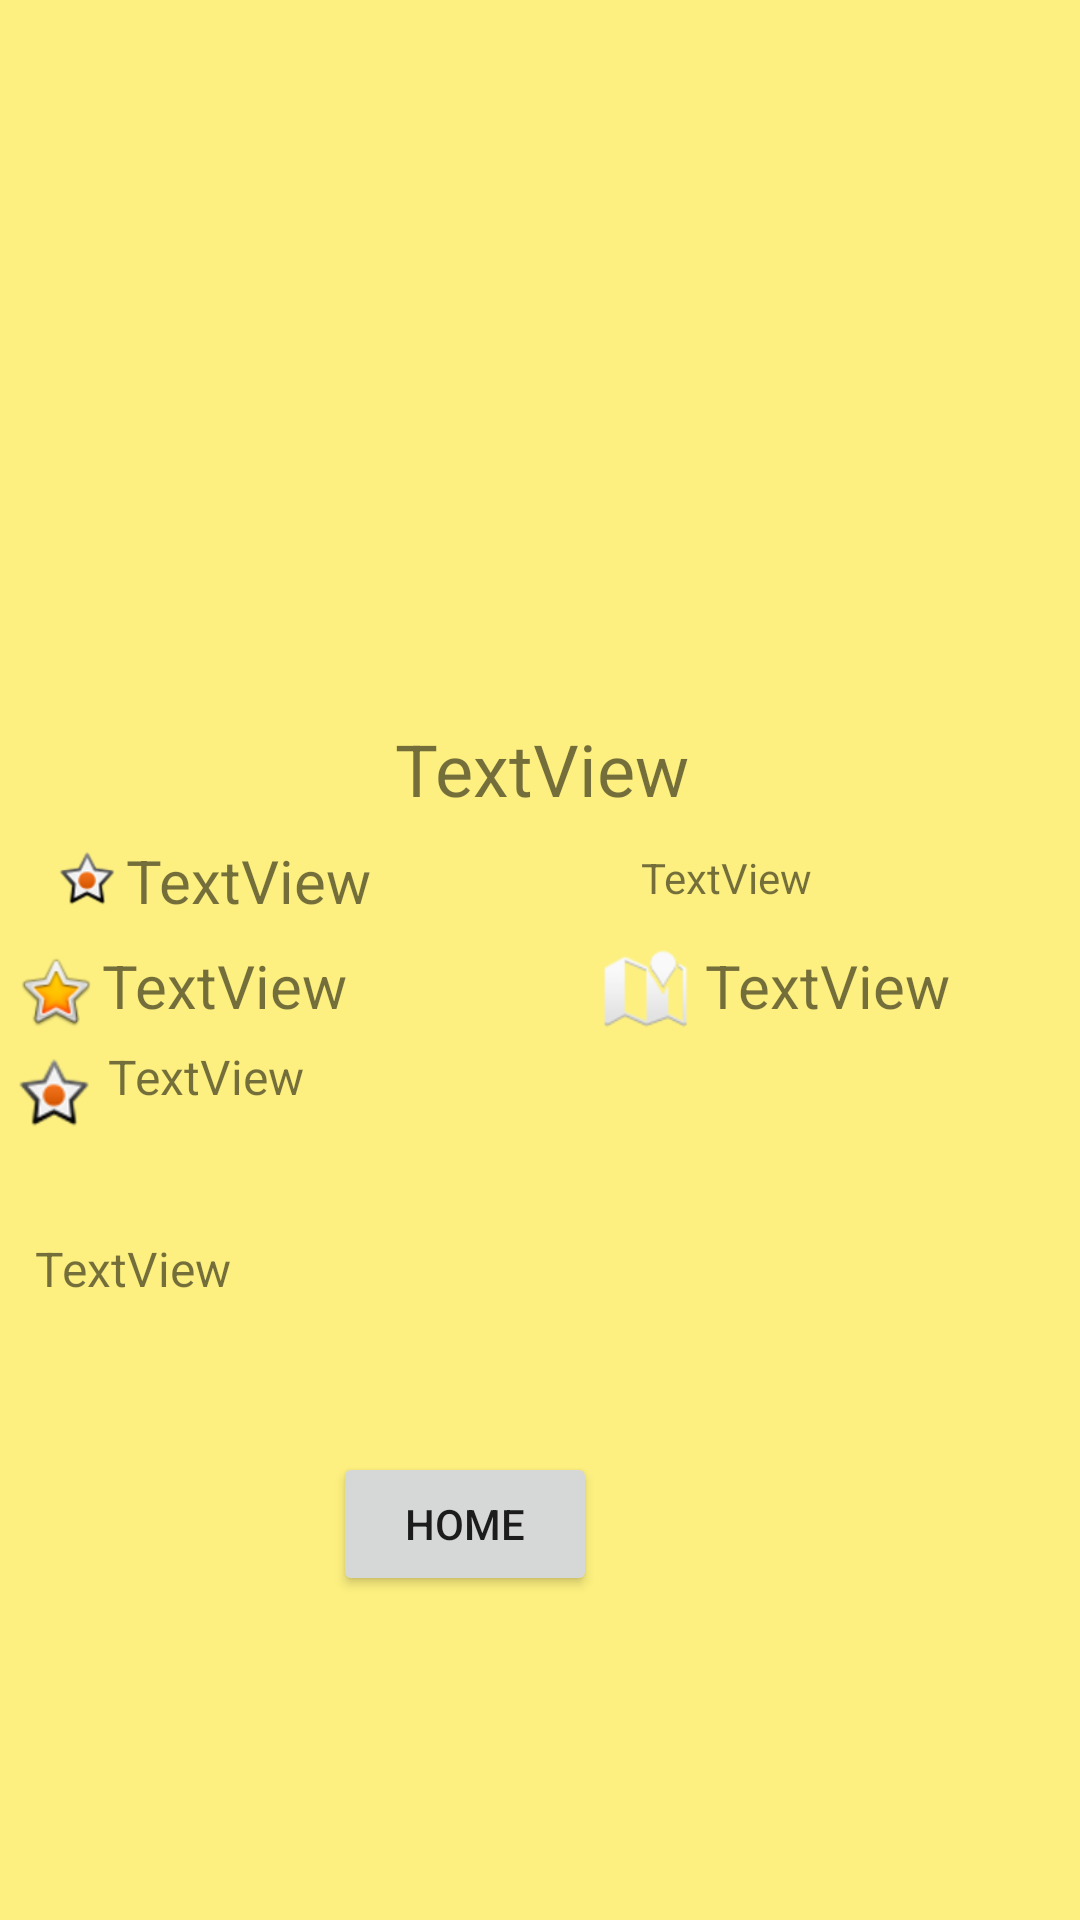

Named icons in this screenshot (1080 x 1920) and their centers, [x,y]:
map: [645,988]
star on: [87,878], [56,992], [54,1092]
